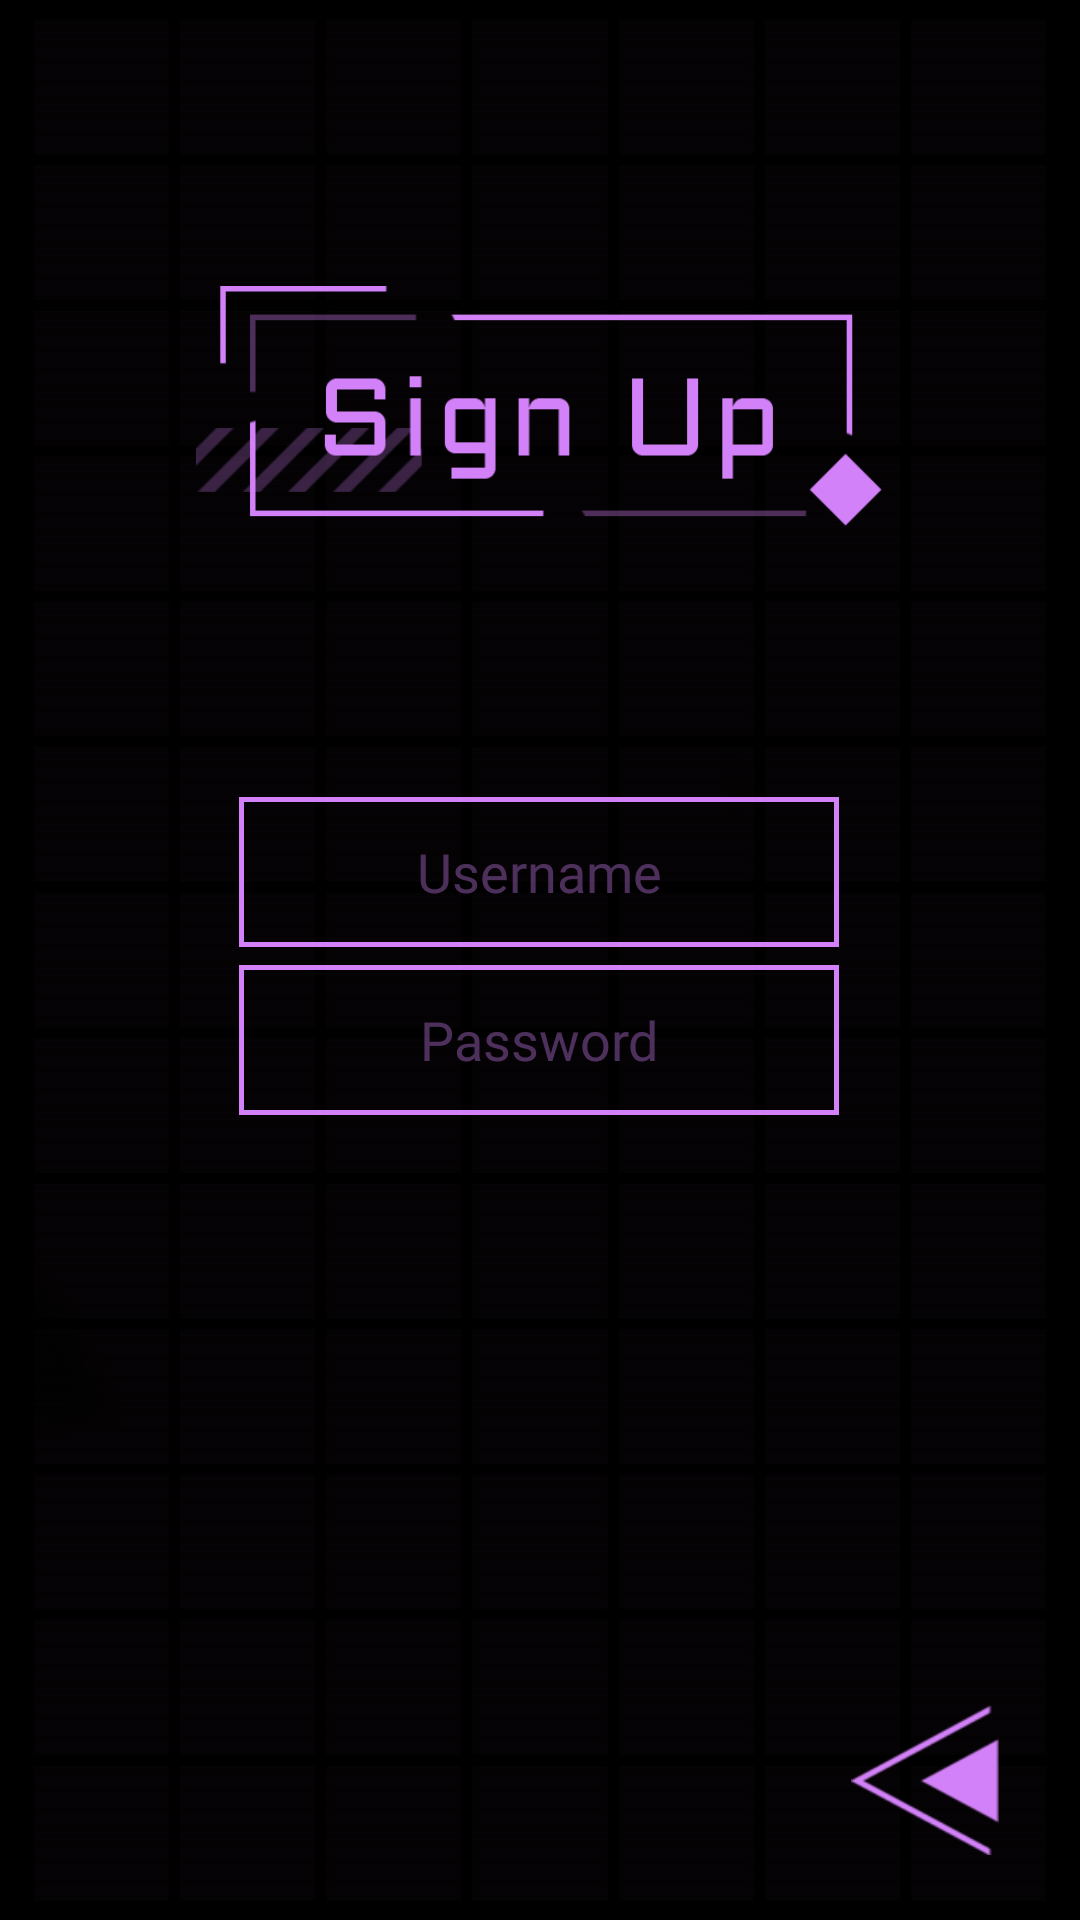

Locate icon controls on the screen. Image size 1080x1920, boxes as region(x1, y1, x2, y2).
back: region(851, 1705, 999, 1855)
